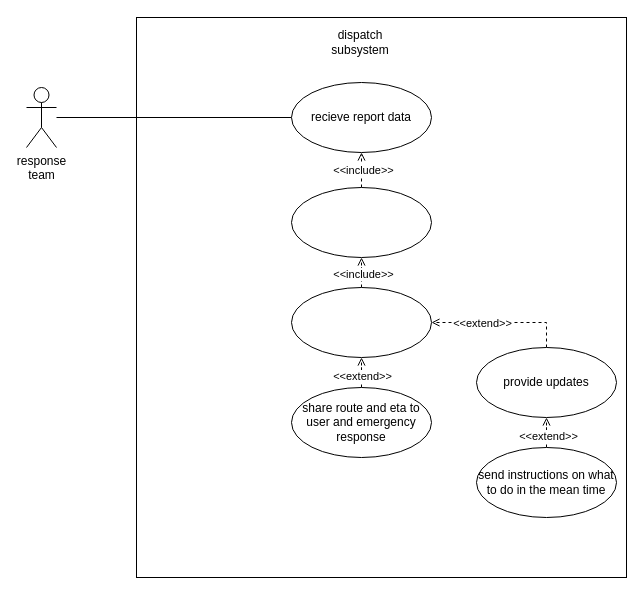
This 644x595 diagram has some shape labels left out. Here are the shapes that lost their labels. From the top down, the box of each, then its label:
(290, 186, 432, 258): determine route
(290, 286, 432, 358): calculate estimated time of arrival
